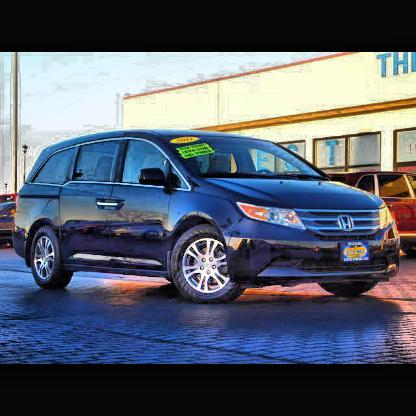Honda Odyssey Minivan 2012: (15, 129, 405, 308)
